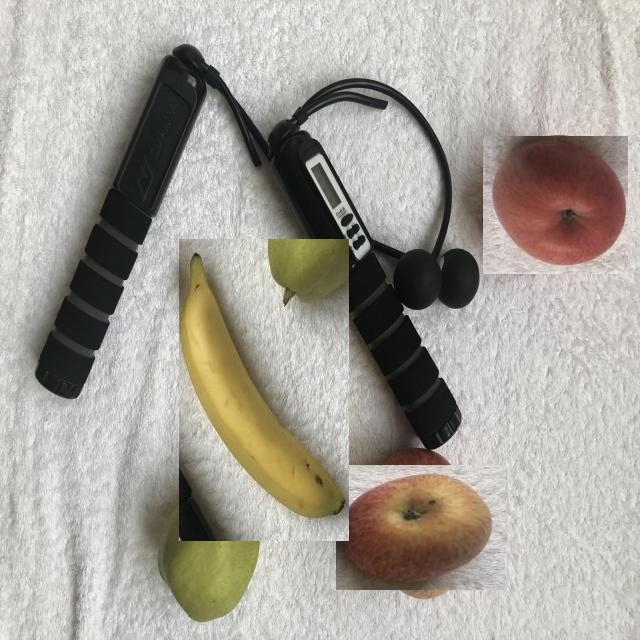Apple: (336, 465, 505, 590), (482, 136, 628, 274)
Banana: (178, 239, 349, 541)
